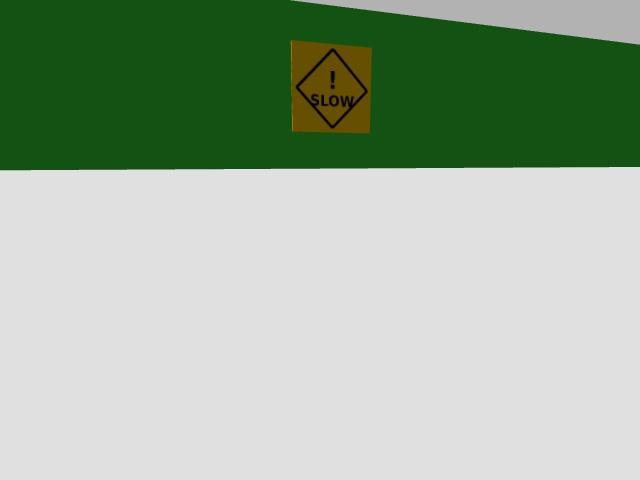slow: (292, 40, 371, 133)
